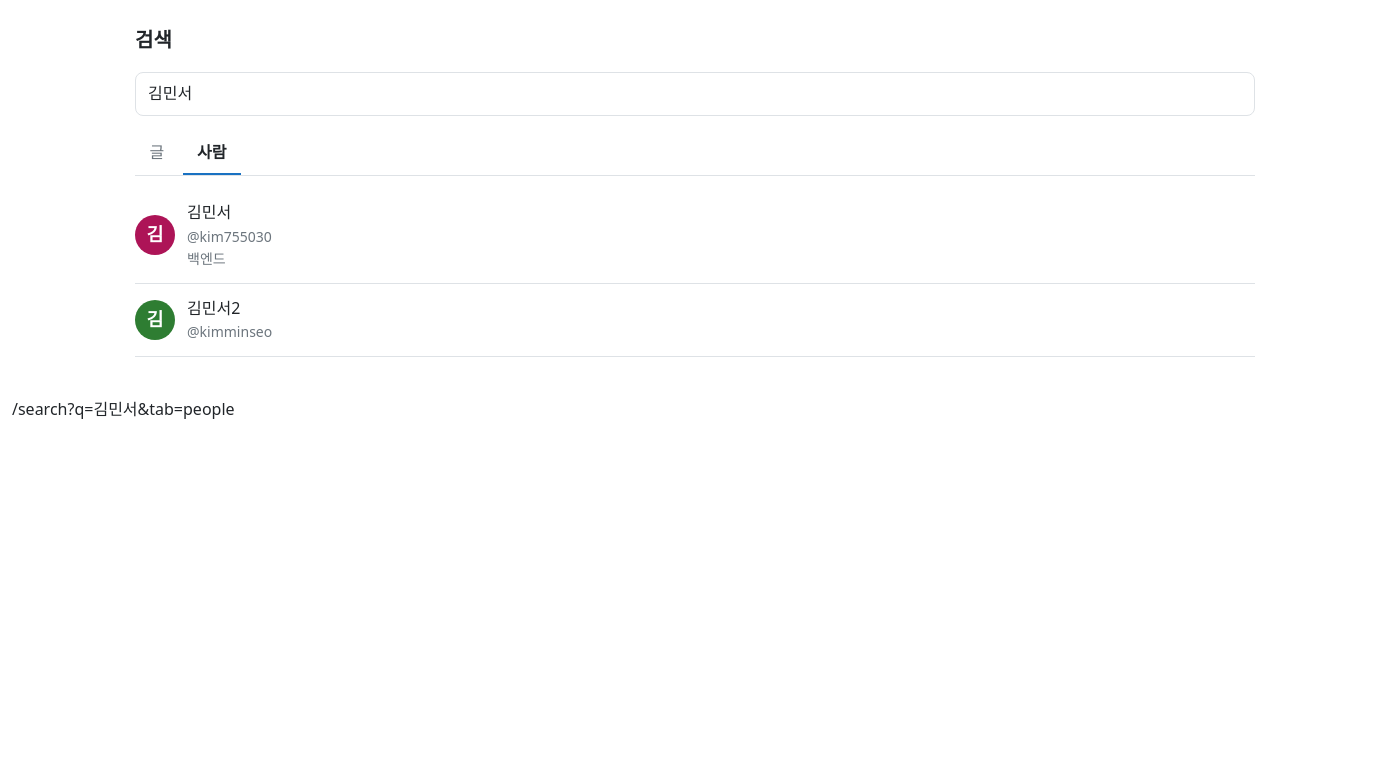
SearchPage › 사람 탭 › [글] 탭으로 바꾸면 글 검색을 부른다
Expected: the number of list items with test id "person-item" is 2, [135,188,1255,284]; [135,284,1255,357]
Click the tab "글" at (157, 153), box [135,132,178,175]
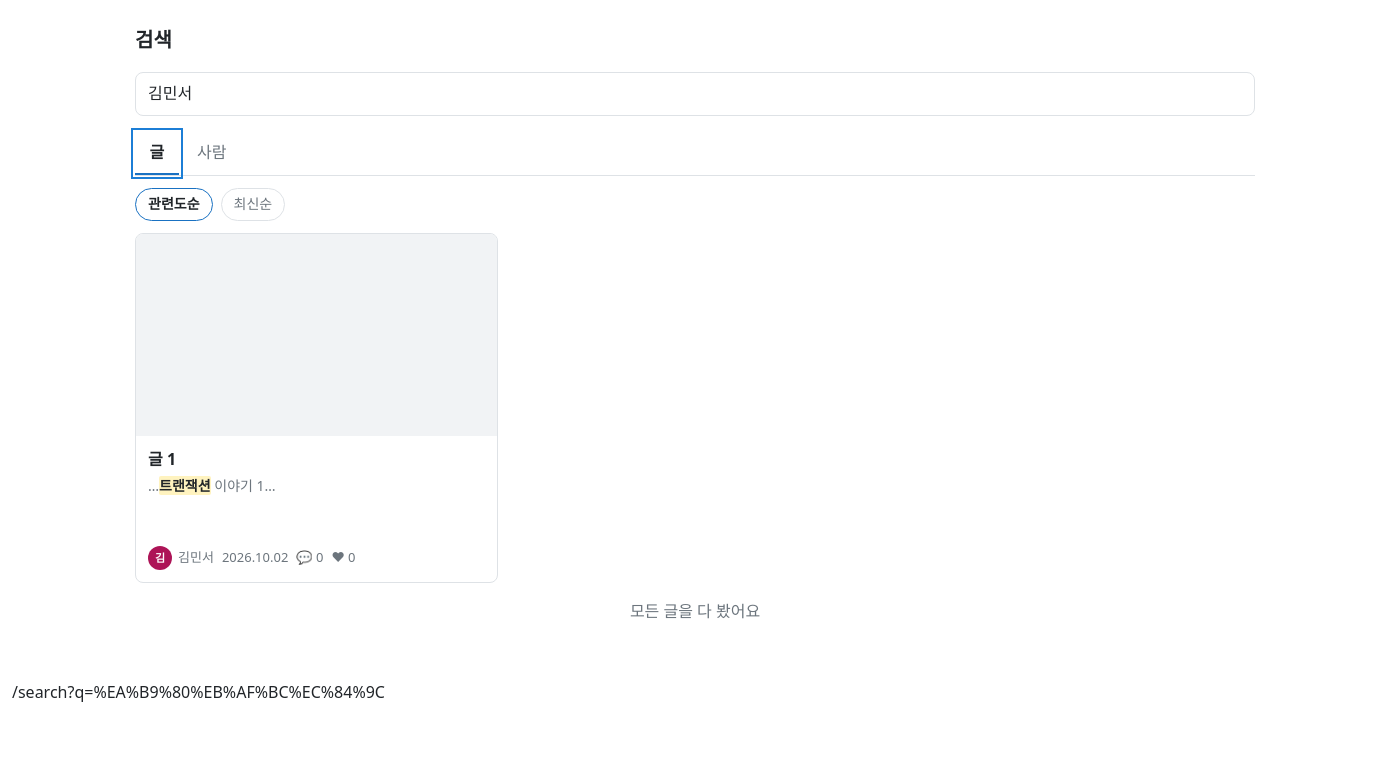
Now the number of elements with test id "post-card" is 1, box [135,233,498,583]
